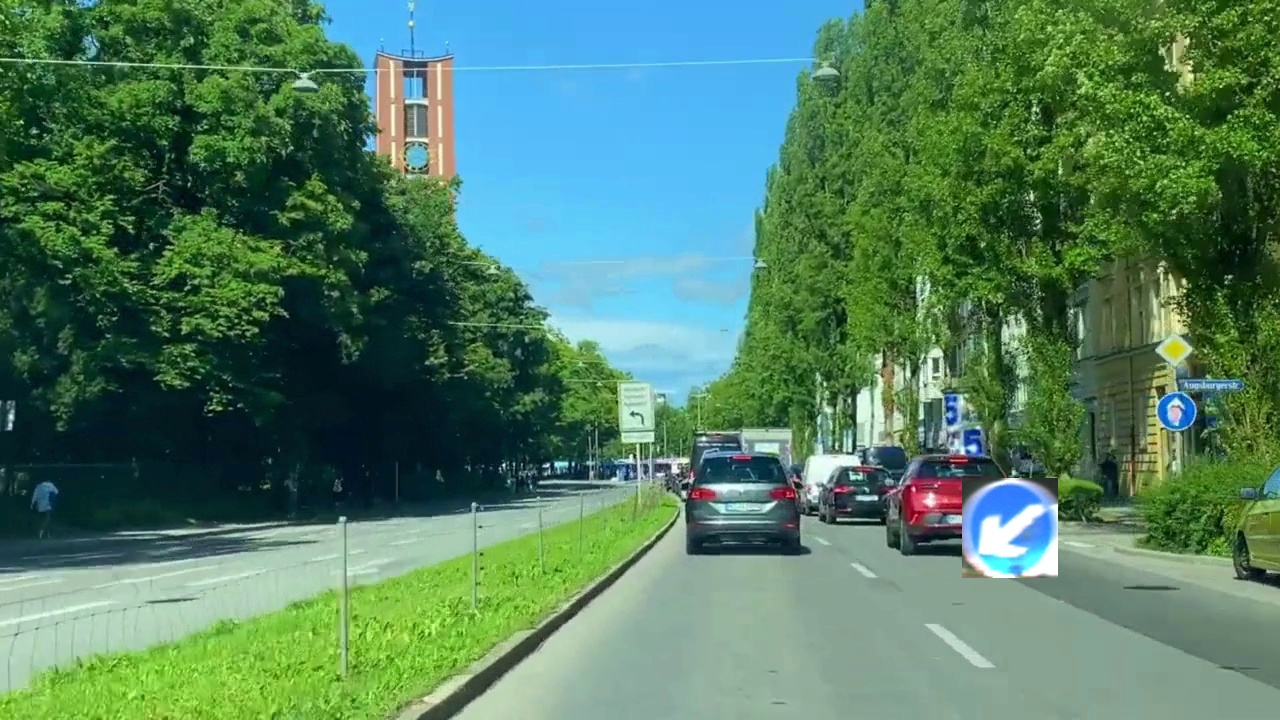Keep left: (962, 478, 1058, 578)
